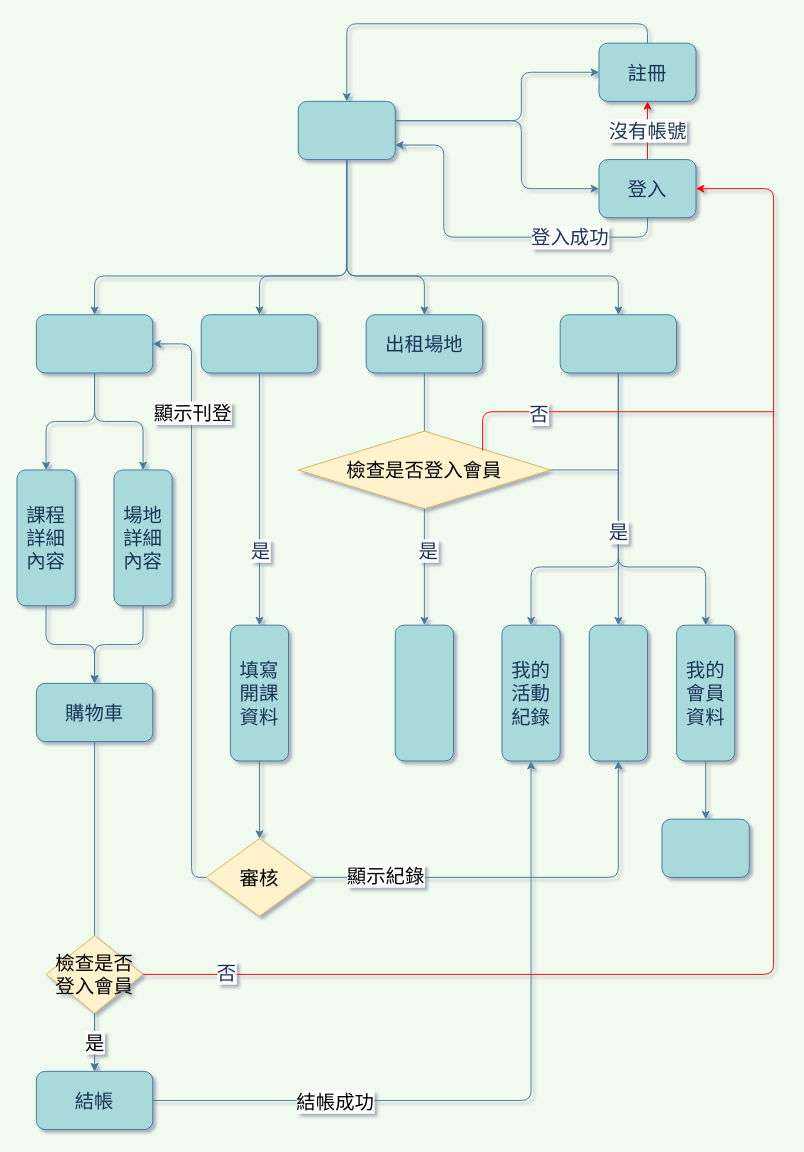
The diagram is 804 pixels wide and 1152 high, and some of its shapes have lost their labels. Here are the shapes that lost their labels. From the top down, the centre of each, then its label:
At point 346,130: "首頁".
At point 94,343: "課程與場地".
At point 259,343: "成為教練".
At point 618,343: "我的頁面".
At point 423,692: "填寫出租資料".
At point 617,692: "我的刊登紀錄".
At point 705,847: "修改資料".
